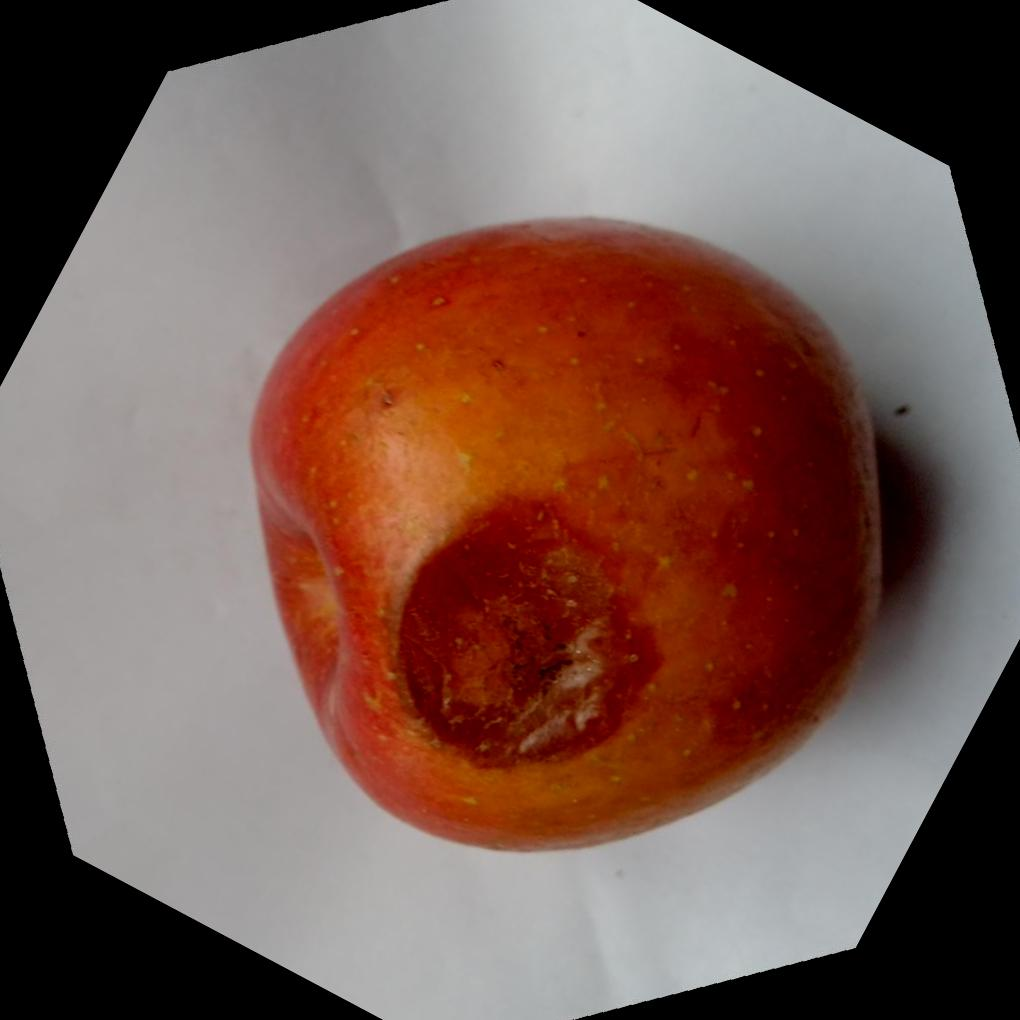FreshOrange: (245, 213, 885, 852)
